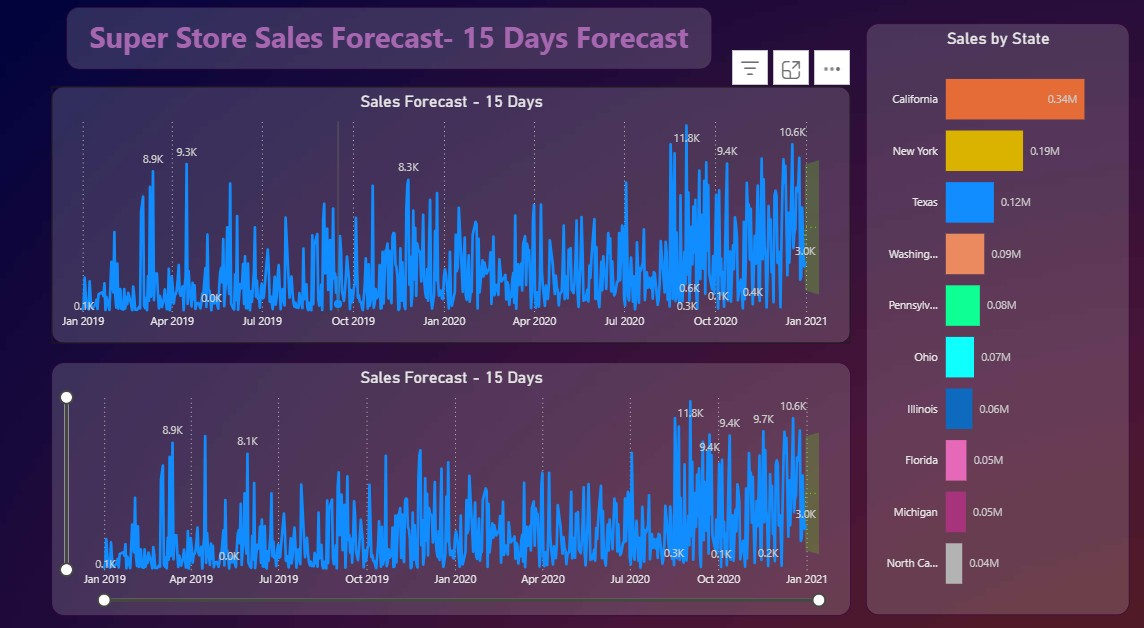

Layout of this report page (visuals, bound fields, positions):
{"tool":"powerbi","page":{"name":"Page 2","canvas":[1280,720],"ordinal":1},"visuals":[{"type":"lineChart","title":"Sales Forecast - 15 Days","fields":{"Y":["Sum(SuperStore_Sales_Dataset.Sales)"],"Category":["SuperStore_Sales_Dataset.Order Date"]},"box":[58.6,98.3,888.2,285.4],"z":0},{"type":"lineChart","title":"Sales Forecast - 15 Days","fields":{"Y":["Sum(SuperStore_Sales_Dataset.Sales)"],"Category":["SuperStore_Sales_Dataset.Order Date"]},"box":[58.6,404.4,888.2,281.6],"z":1000},{"type":"textbox","box":[74.5,9.9,717.3,69.6],"z":2000},{"type":"barChart","title":"Sales by State","fields":{"Category":["SuperStore_Sales_Dataset.State"],"Y":["Sum(SuperStore_Sales_Dataset.Sales)"]},"box":[963.8,28.3,292.9,657.6],"z":3000}]}

Visuals, with their boxes in screenshot pixels (x1, y1, x2, y2), scaled from the page's 1280x720 canvas onto the 1144x628 screenshot:
"Sales Forecast - 15 Days" lineChart: rect(52, 86, 846, 335)
"Sales Forecast - 15 Days" lineChart: rect(52, 353, 846, 598)
textbox: rect(67, 9, 708, 69)
"Sales by State" barChart: rect(861, 25, 1123, 598)
